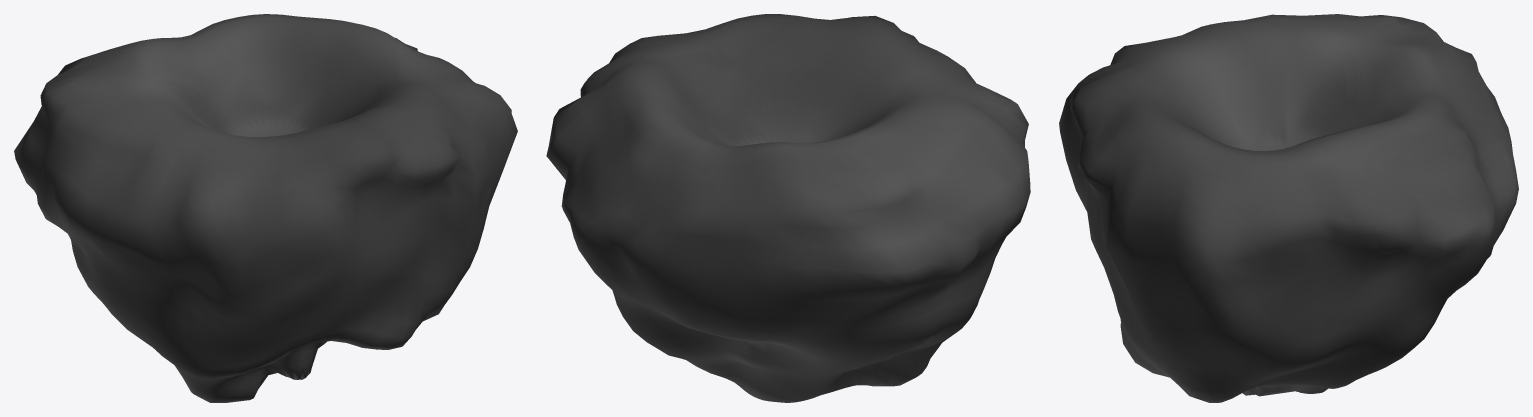
Rendered from Espacio.fbx.
The picture shows the model from 3 angles, left to right: view 1: azimuth 30°, elevation 25°; view 2: azimuth 150°, elevation 25°; view 3: azimuth 270°, elevation 25°; orthographic projection. The views are drawn at different scales.
Visible parts, largest first — view 1: Sphere; view 2: Sphere; view 3: Sphere.
Boxes of the visible parts, x1,y1,x2,y2 form: Sphere: [14, 14, 517, 402]; Sphere: [546, 14, 1030, 402]; Sphere: [1059, 14, 1518, 402].
Size of the model in its own units: 572 by 391 by 515.
